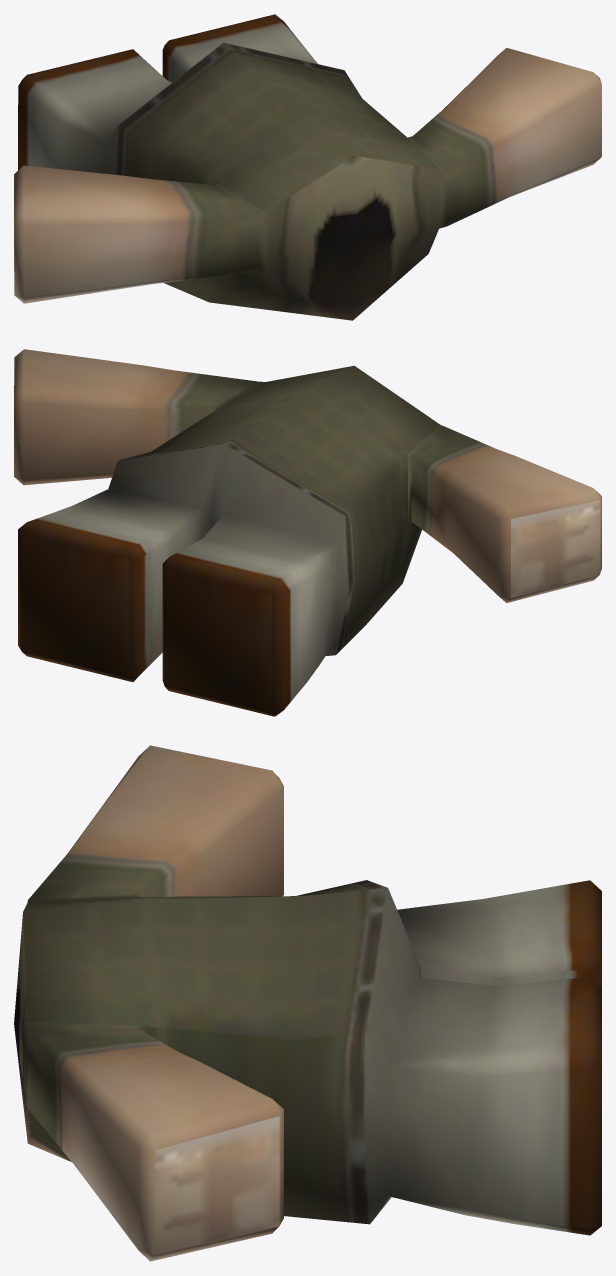
Rendered from Avatar_Hostagel01_H_Body_9c0f102c__Avatar_Hostagel01_d2cac6fe_c1f257.obj.
3 views of the same model, one above another, from view 1: azimuth 30°, elevation 25°; view 2: azimuth 150°, elevation 25°; view 3: azimuth 270°, elevation 25° (orthographic). The views are drawn at different scales.
Bounding box in the file's own units: 1.41 × 0.504 × 0.882.
Materials: 1 (1 with a texture image).
